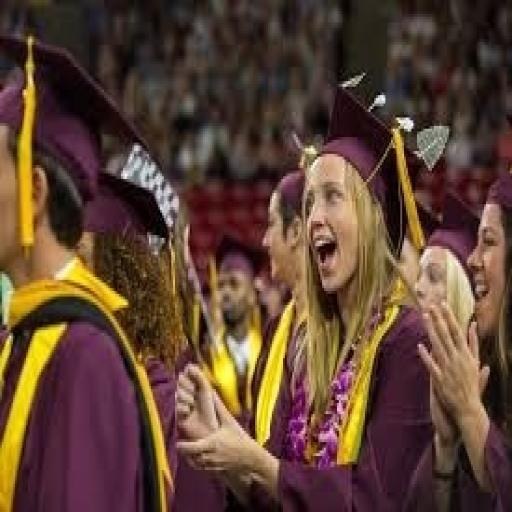clapping: (327, 126, 512, 512)
